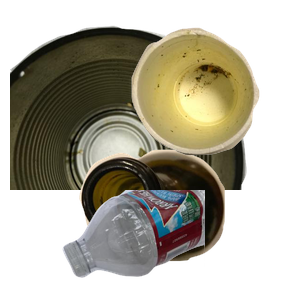glass: (77, 147, 295, 300)
metal: (10, 23, 250, 203)
plastic: (60, 190, 300, 280)
trash: (129, 25, 300, 173)
